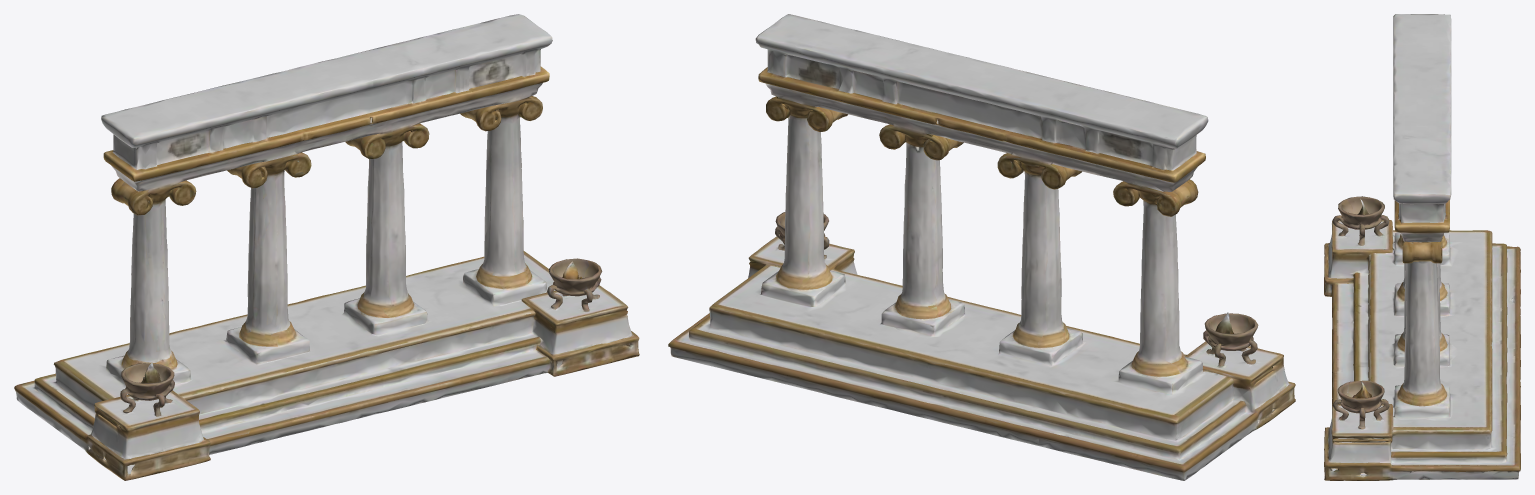
File: porch_ionic.glb
3 renders of one model, left to right at view 1: azimuth 30°, elevation 25°; view 2: azimuth 150°, elevation 25°; view 3: azimuth 270°, elevation 25°, orthographic. The views are drawn at different scales.
Parts seen in each view (by area): view 1: geometry_0; view 2: geometry_0; view 3: geometry_0.
Part boxes in pixels (x1,y1,x2,y2): geometry_0: [14, 14, 639, 480]; geometry_0: [668, 14, 1295, 480]; geometry_0: [1324, 14, 1520, 480].
Size of the model in its own units: 1 by 0.5616 by 0.3756.
1 material, 1 textured.
